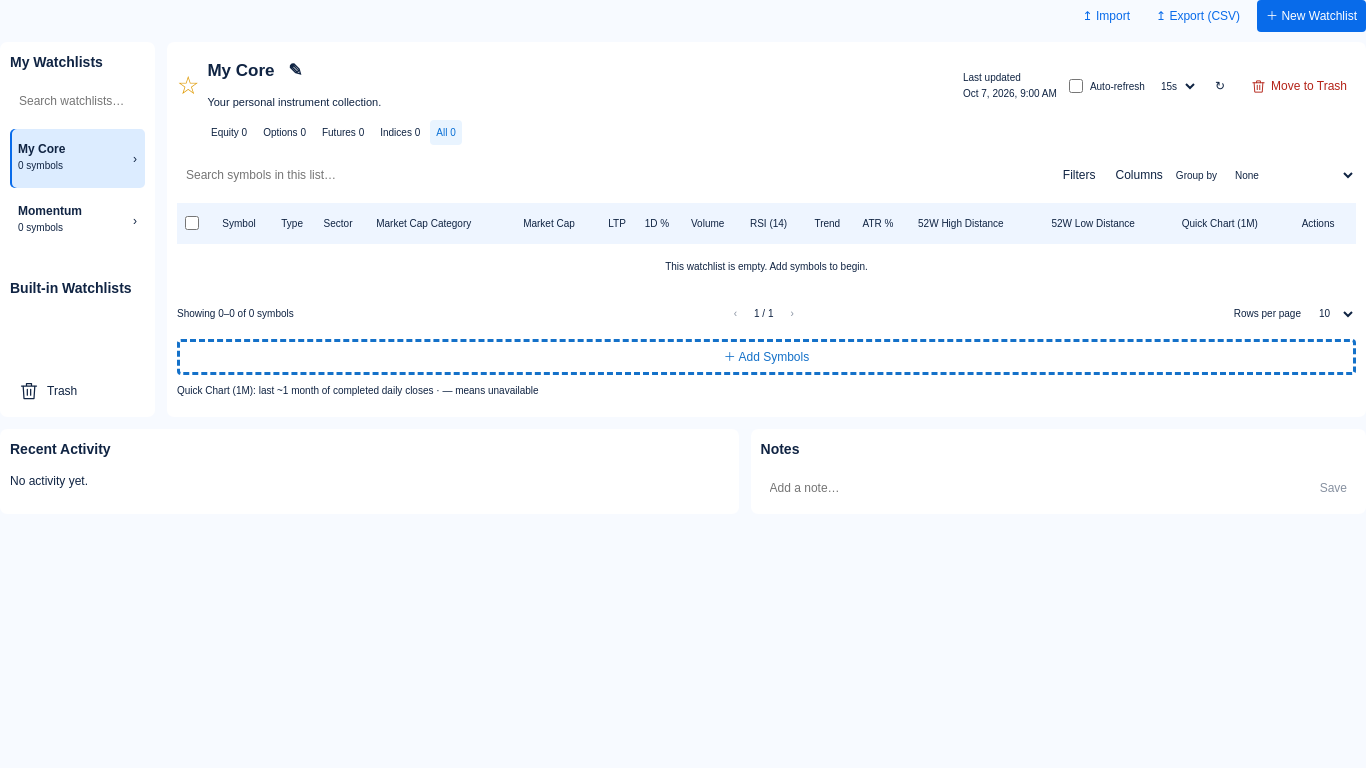
moving the selected watchlist opens Trash without stale active detail
Click the button with aria-label "Move My Core to Trash" at (1299,86), box [1242,70,1356,102]
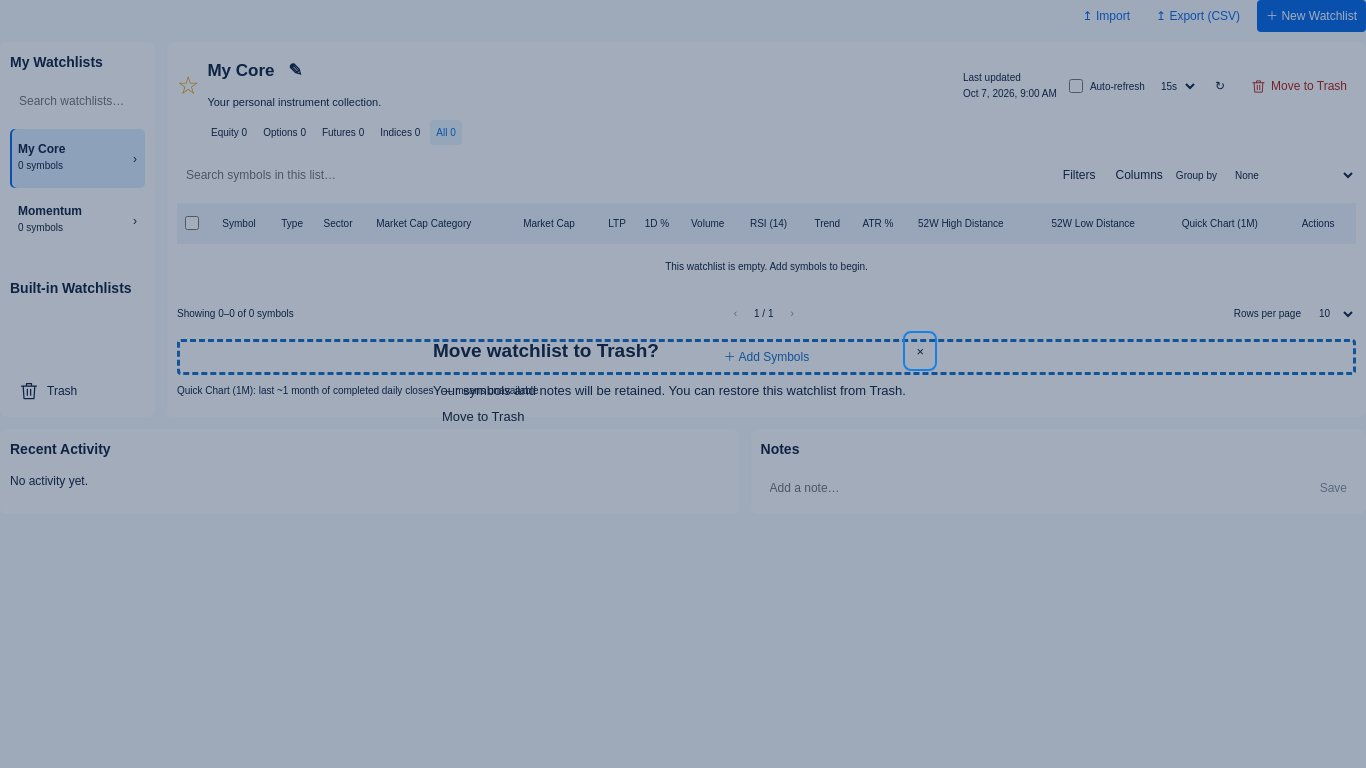
Click the button "Move to Trash" at (483,417), box [433,401,533,433]
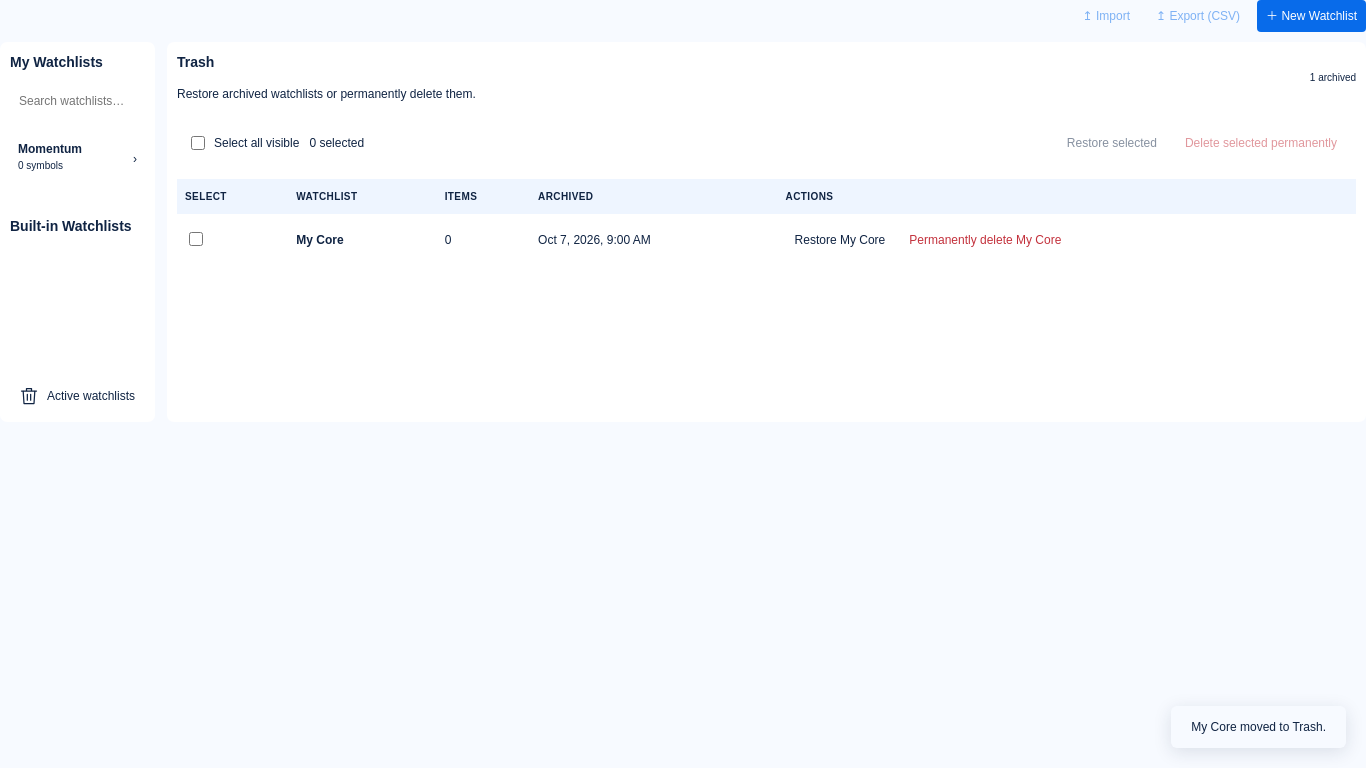
Expected: the checkbox named "Select My Core" is shown, [189,232,203,246]
Expected: the message reads "My Core moved to Trash.", [1191,720,1326,734]
Expected: the button "Move My Core to Trash" is gone
